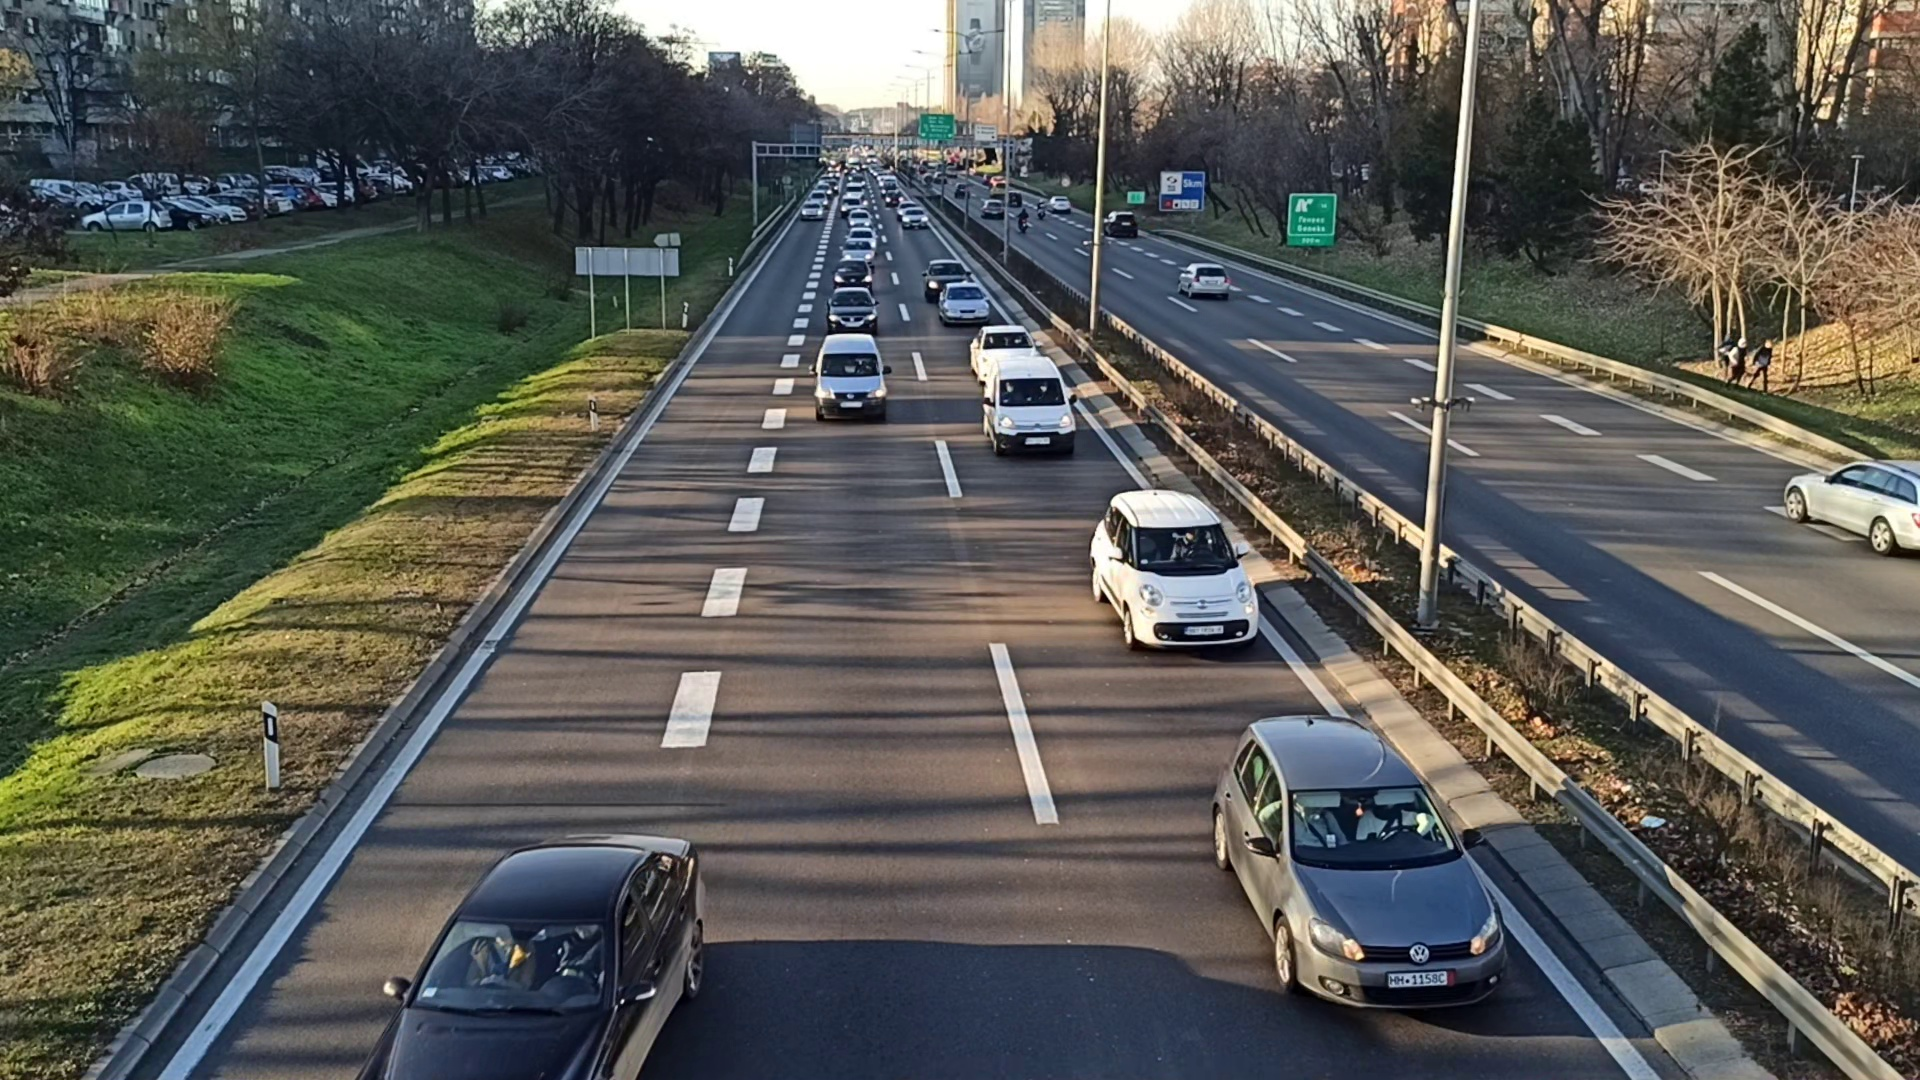car: (1204, 712, 1513, 1025), (1088, 488, 1262, 659), (823, 289, 877, 331), (936, 284, 990, 324), (833, 258, 880, 294)
van: (982, 360, 1076, 460), (815, 334, 887, 414)
